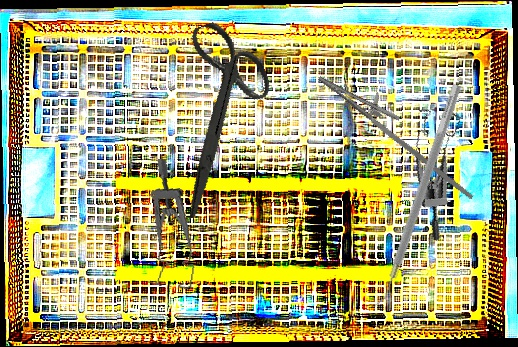Iris Scissors: (128, 10, 305, 220)
Needle Holder: (305, 62, 494, 201)
Spatula Surgical: (370, 80, 462, 312)
Speculum: (393, 97, 495, 244), (136, 158, 211, 291)
